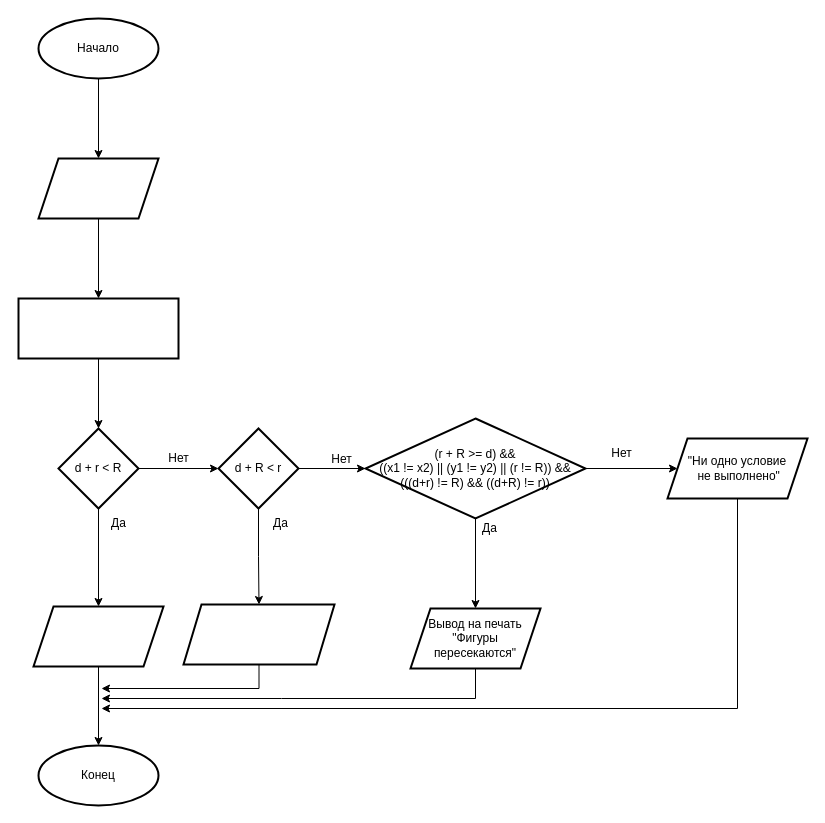
Image size: 825x823. Some labels were removed from this diagram. Each missing label, with the centre of its shape:
d = sqrt((x1 - x2) * (x1 - x2) + (y1 - y2) * (y1 - y2)): point 98,328
Введите x1, y1, r, x2, y2, R: point 98,188
Вывод на печать "Да": point 98,636
Вывод на печать "Да, но справедливо обратное для двух фигур": point 258,634
